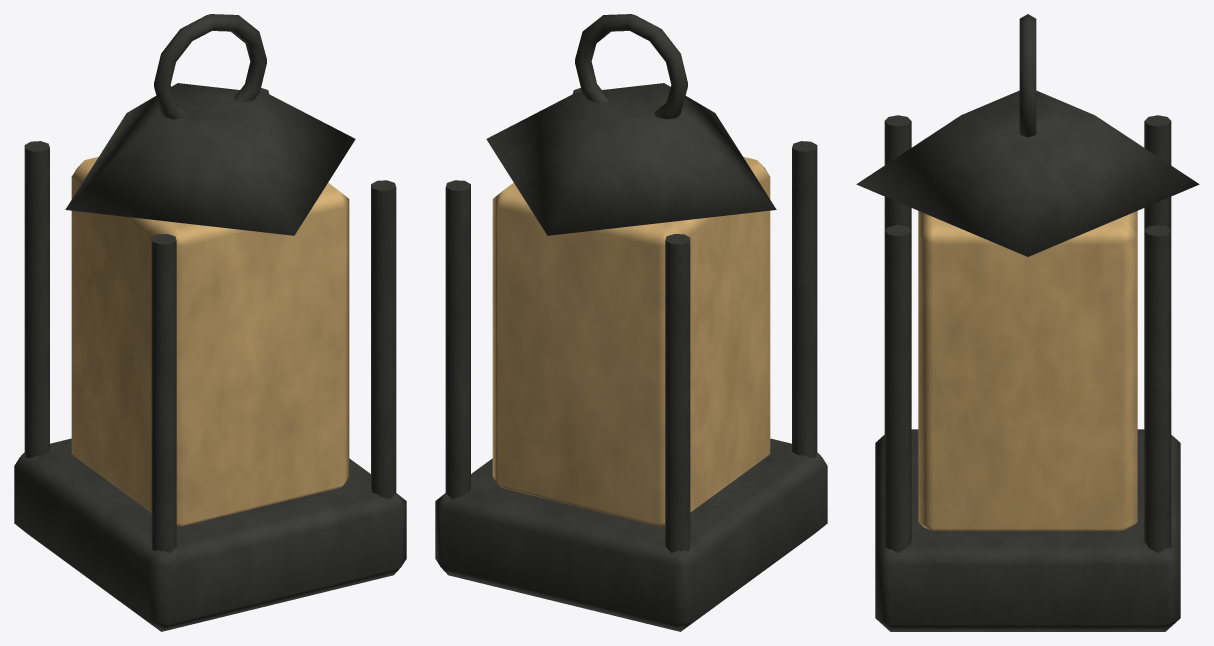
The model's file is Furn_Lantern.fbx.
The picture shows the model from 3 angles, left to right: view 1: azimuth 30°, elevation 25°; view 2: azimuth 150°, elevation 25°; view 3: azimuth 270°, elevation 25°; orthographic projection. The views are drawn at different scales.
Parts seen in each view (by area): view 1: Furn_Lantern_Mesh; view 2: Furn_Lantern_Mesh; view 3: Furn_Lantern_Mesh.
Boxes of the visible parts, x1,y1,x2,y2 form: Furn_Lantern_Mesh: (14, 14, 406, 631); Furn_Lantern_Mesh: (435, 14, 827, 631); Furn_Lantern_Mesh: (856, 14, 1199, 631).
Size of the model in its own units: 0.18 by 0.32 by 0.18.
Materials: 2 (2 with a texture image).
